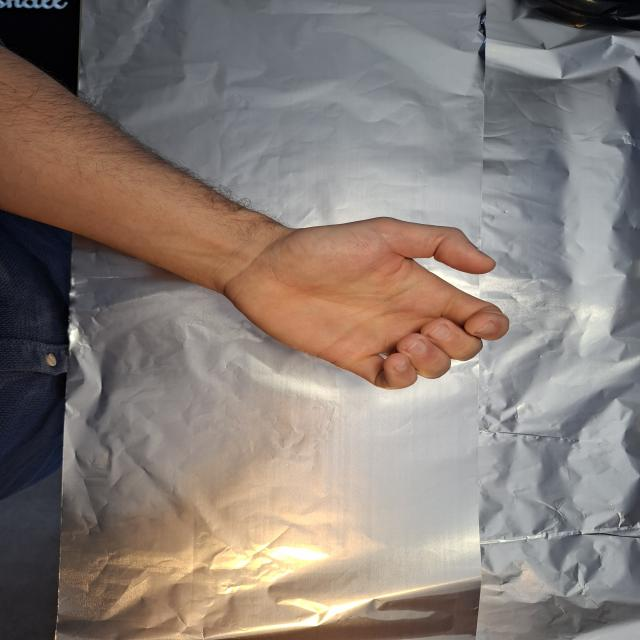glove_off: (215, 213, 512, 392)
